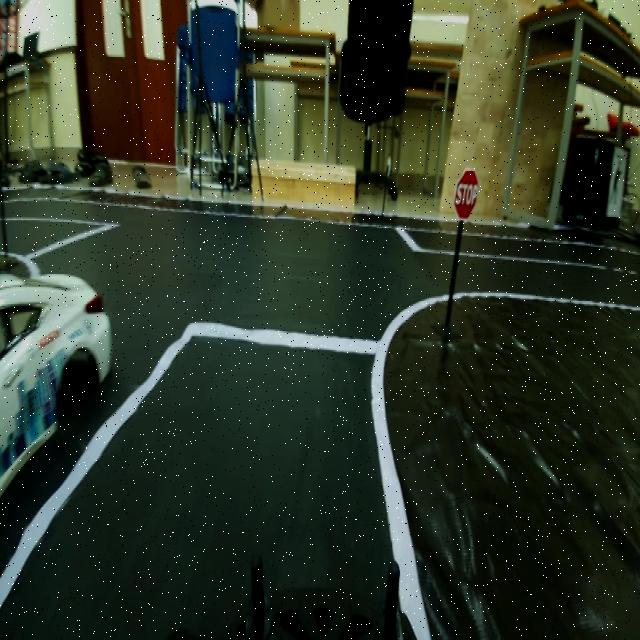car: (1, 245, 116, 428)
stop: (450, 160, 482, 222)
